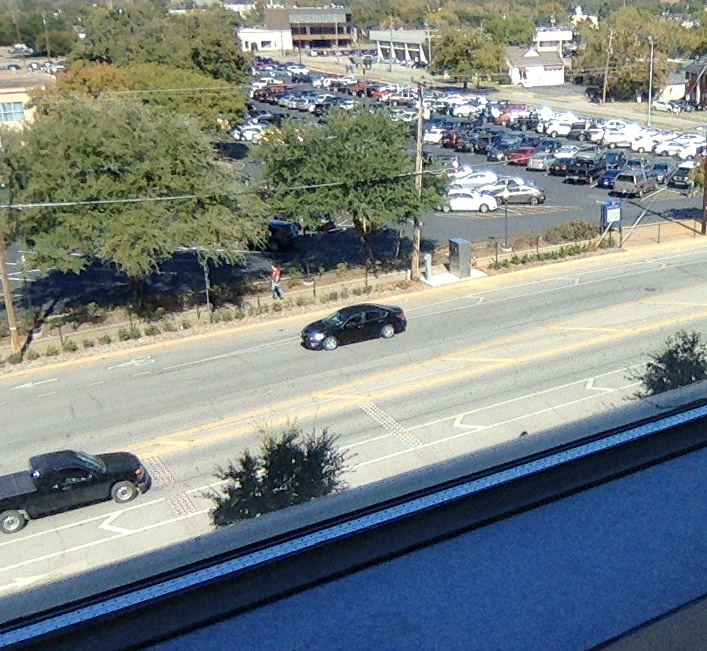car: (300, 300, 407, 351)
